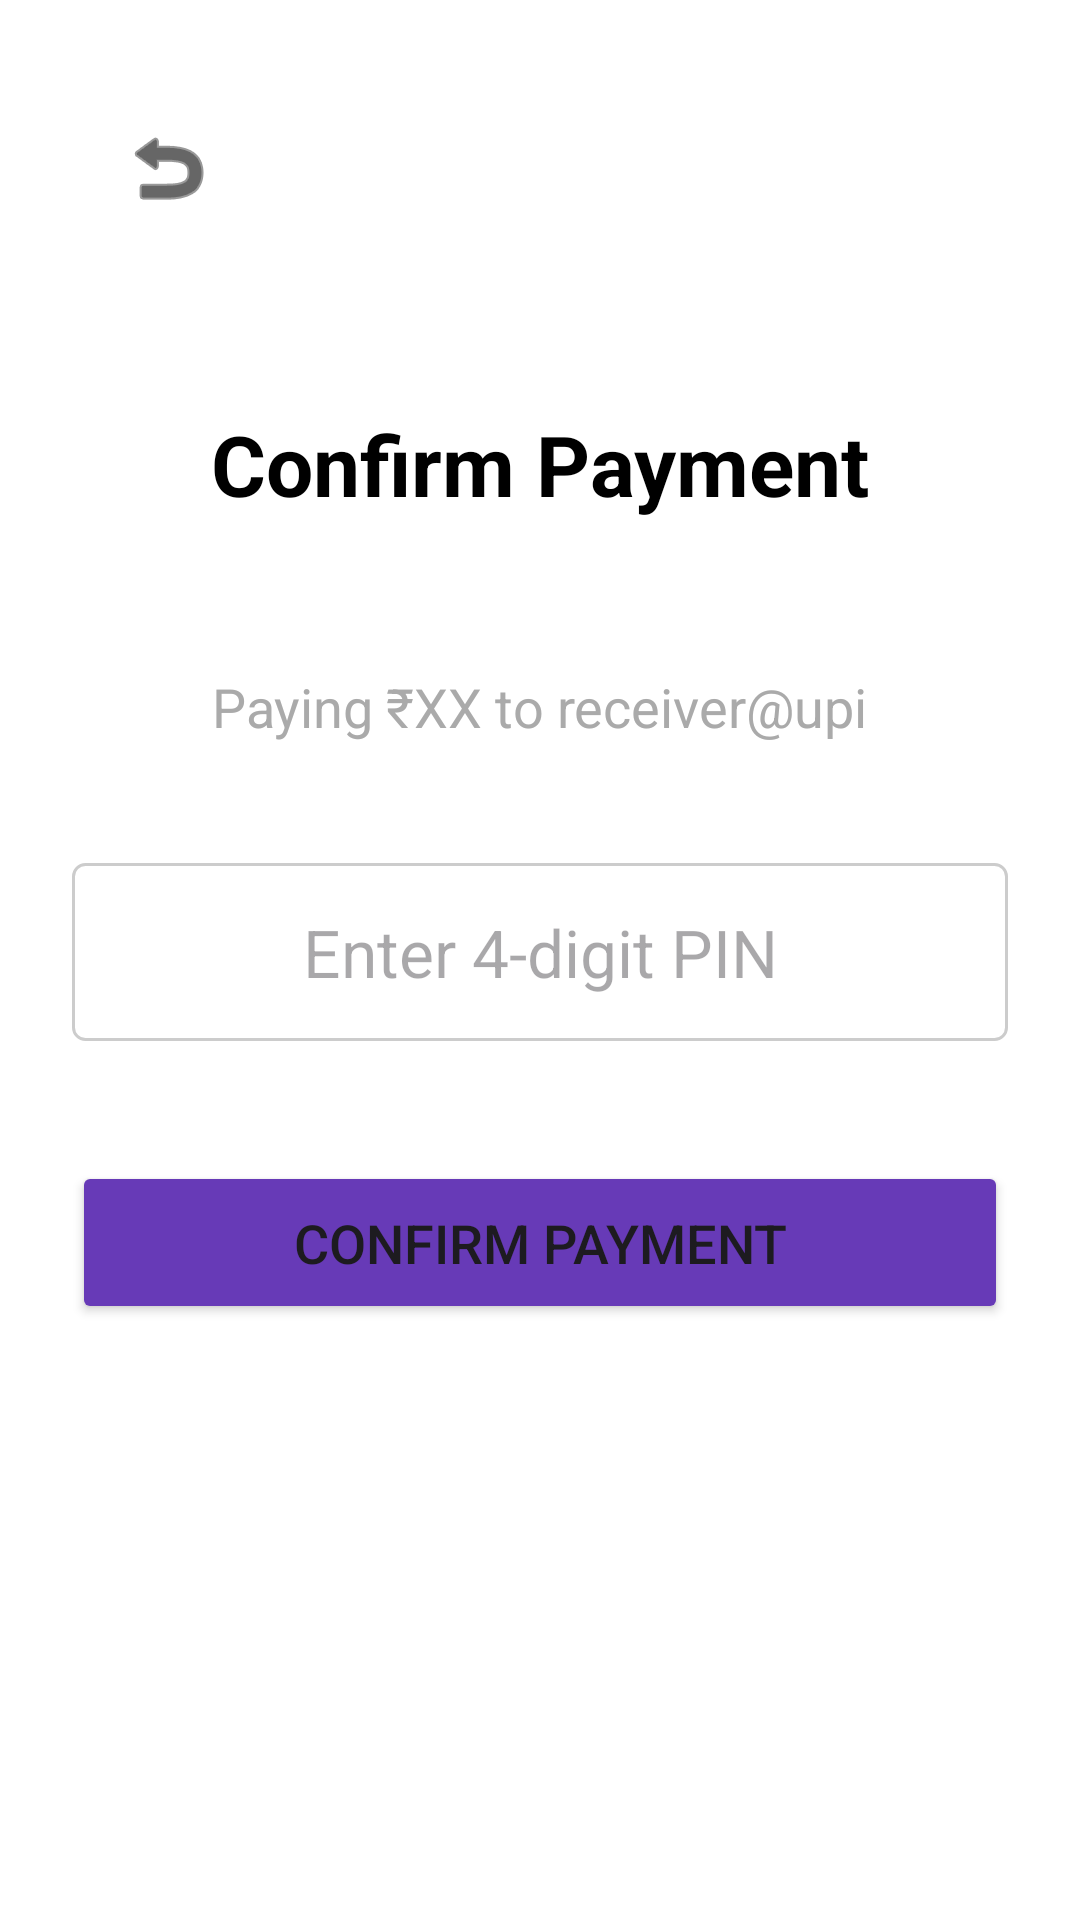

Icon click points for this 1080 × 1920 phone screenshot, format [x,y]:
Back: [169,168]
